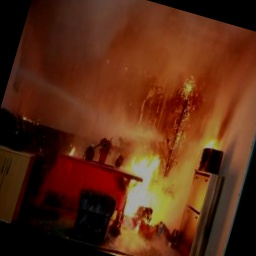fire: (101, 131, 194, 251)
